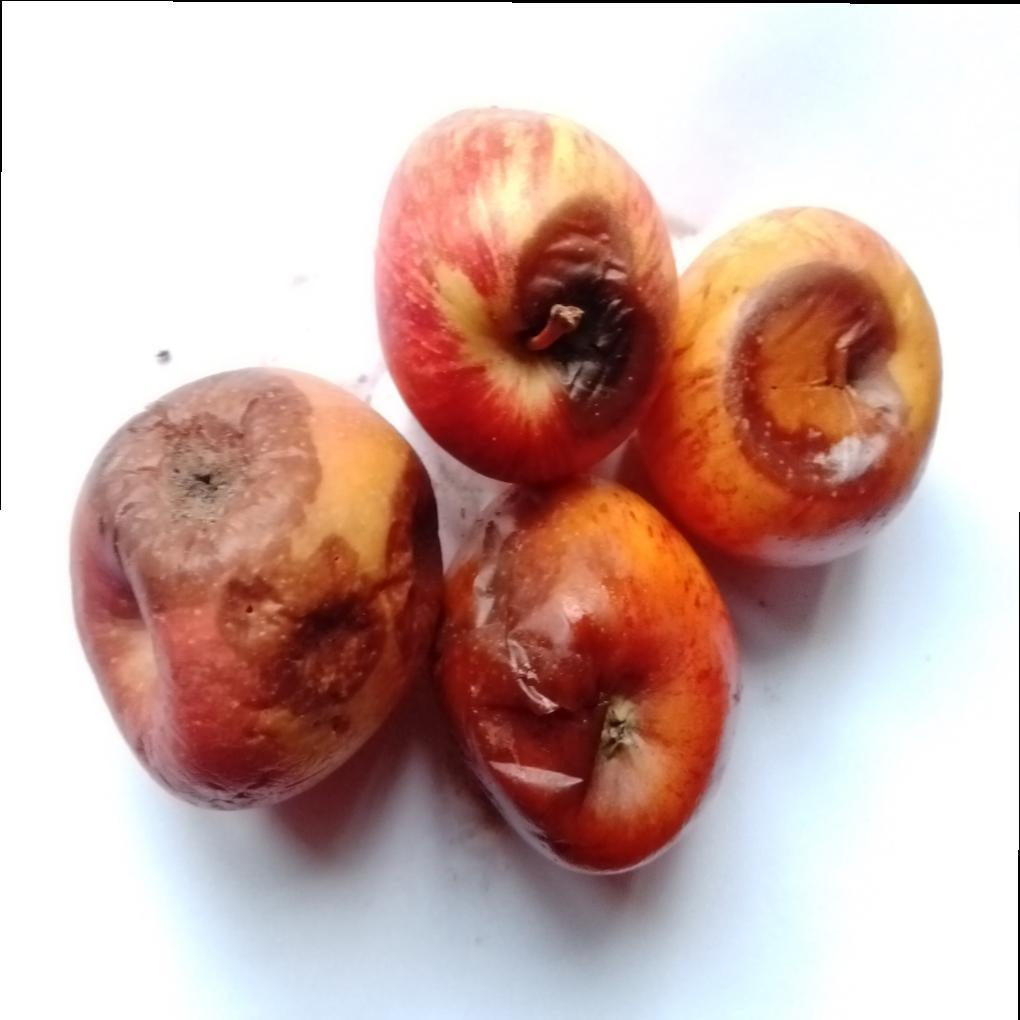FreshOrange: (67, 103, 940, 880)
